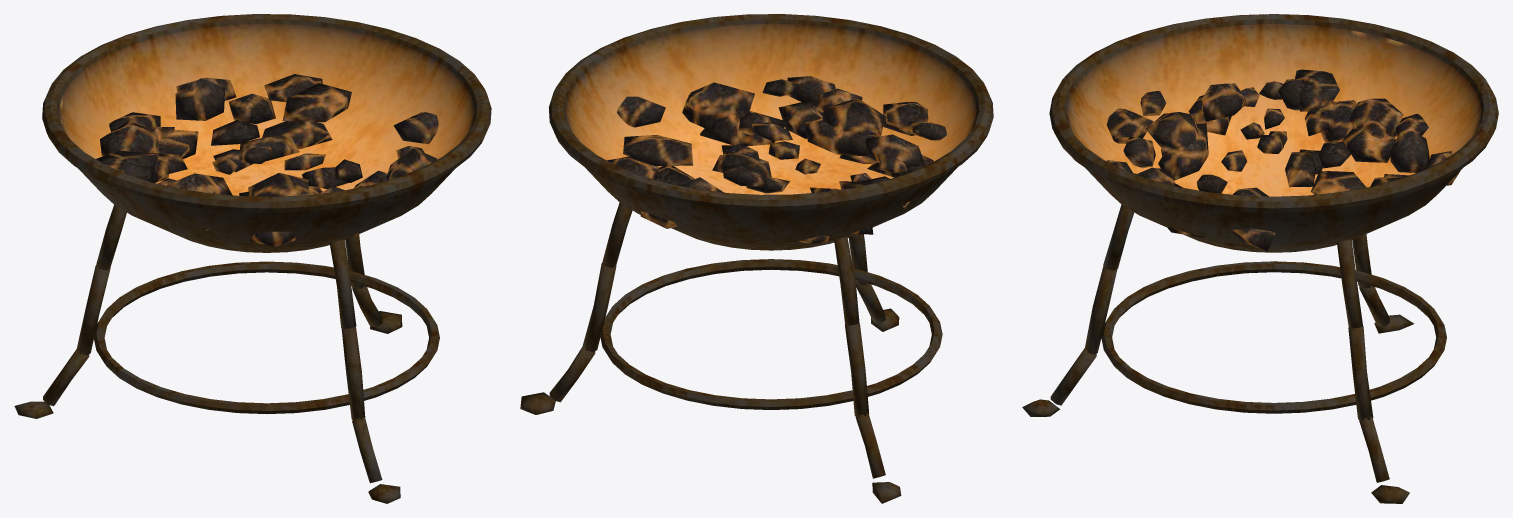
The model's file is base_P2_brasero.glb.
The picture shows the model from 3 angles, left to right: view 1: azimuth 30°, elevation 25°; view 2: azimuth 150°, elevation 25°; view 3: azimuth 270°, elevation 25°; orthographic projection.
Parts seen in each view (by area): view 1: base_P2_brasero; view 2: base_P2_brasero; view 3: base_P2_brasero.
Part boxes in pixels (box(x1,y1,x2,y2)): base_P2_brasero: box(14, 14, 491, 503); base_P2_brasero: box(520, 14, 993, 503); base_P2_brasero: box(1022, 14, 1498, 503).
Size of the model in its own units: 1.15 by 0.8798 by 1.22.
Materials: 1 (1 with a texture image).
